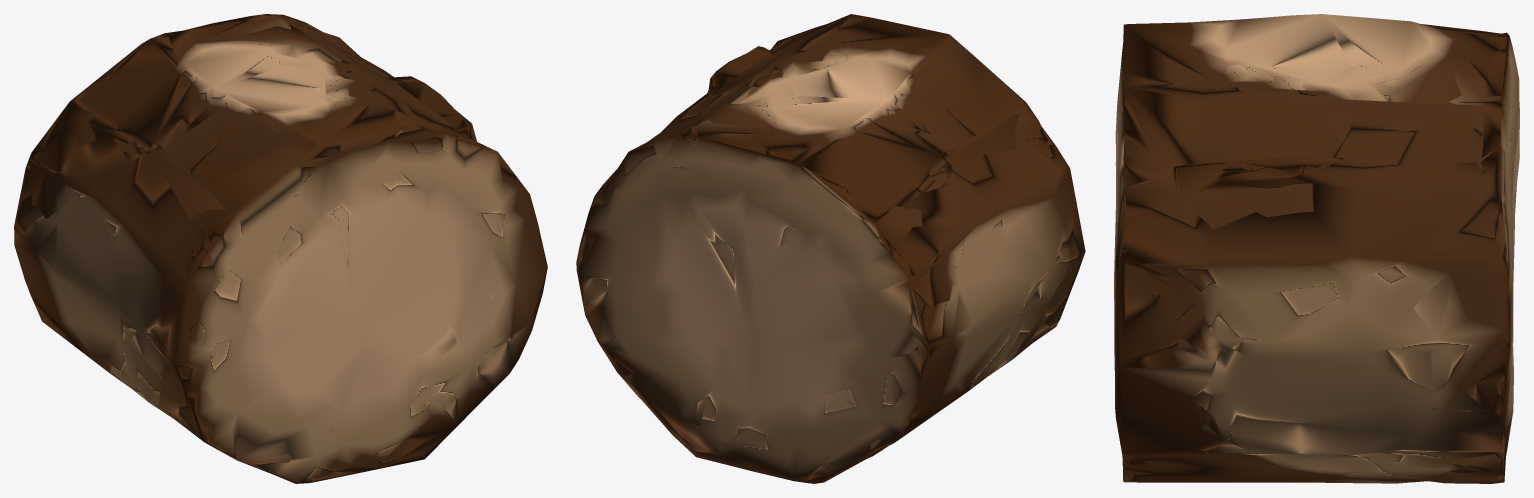
Rendered from gen3d-rolling-log-lod0.glb.
3 renders of one model, left to right at view 1: azimuth 30°, elevation 25°; view 2: azimuth 150°, elevation 25°; view 3: azimuth 270°, elevation 25°, orthographic. The views are drawn at different scales.
Visible parts, largest first — view 1: part_0; view 2: part_0; view 3: part_0.
Boxes of the visible parts, x1,y1,x2,y2 form: part_0: (14, 14, 547, 483); part_0: (576, 14, 1085, 483); part_0: (1114, 14, 1519, 483).
Bounding box in the file's own units: 1.13 × 0.9987 × 0.9157.
